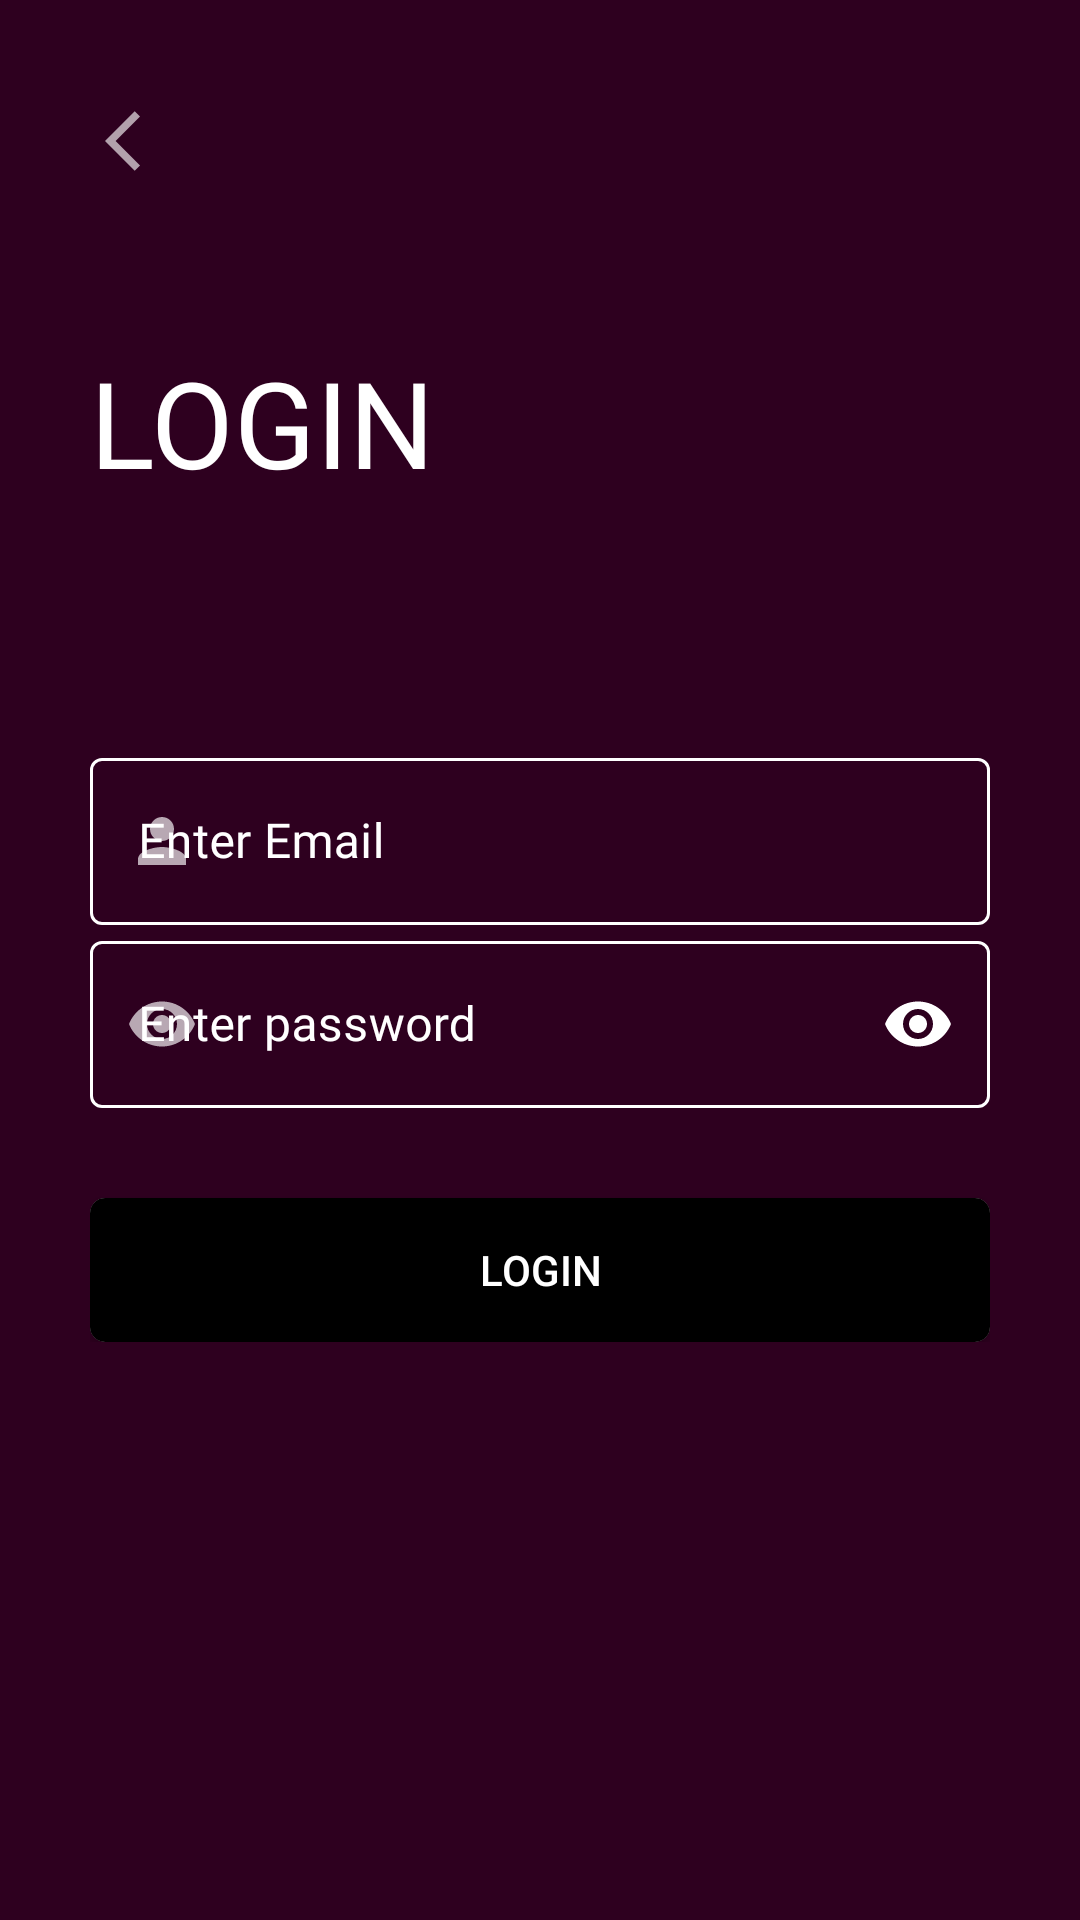

Where icons sit on this 1080×1920 app screen, as (x1, y1, x2, y2):
general back: (105, 111, 140, 171)
